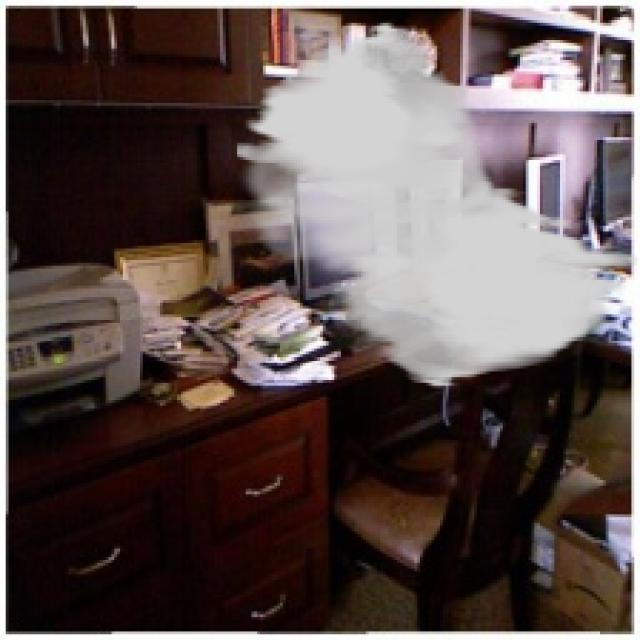Smoke: (234, 20, 637, 389)
